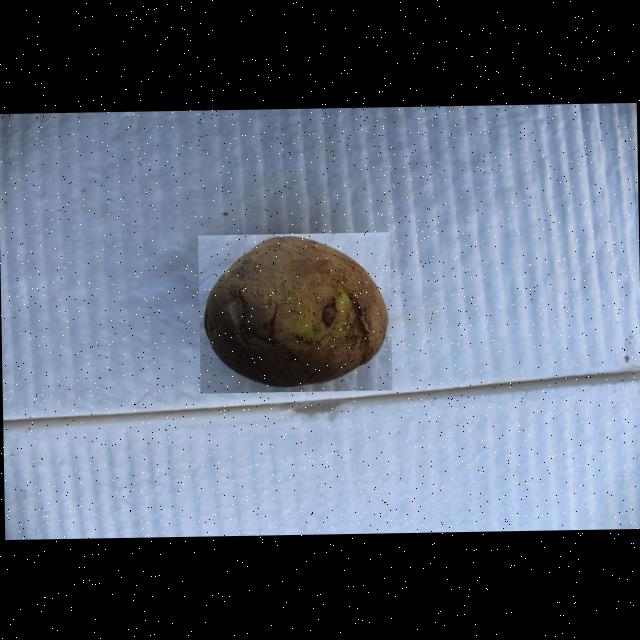Diseased-fungal potato: (196, 231, 392, 392)
